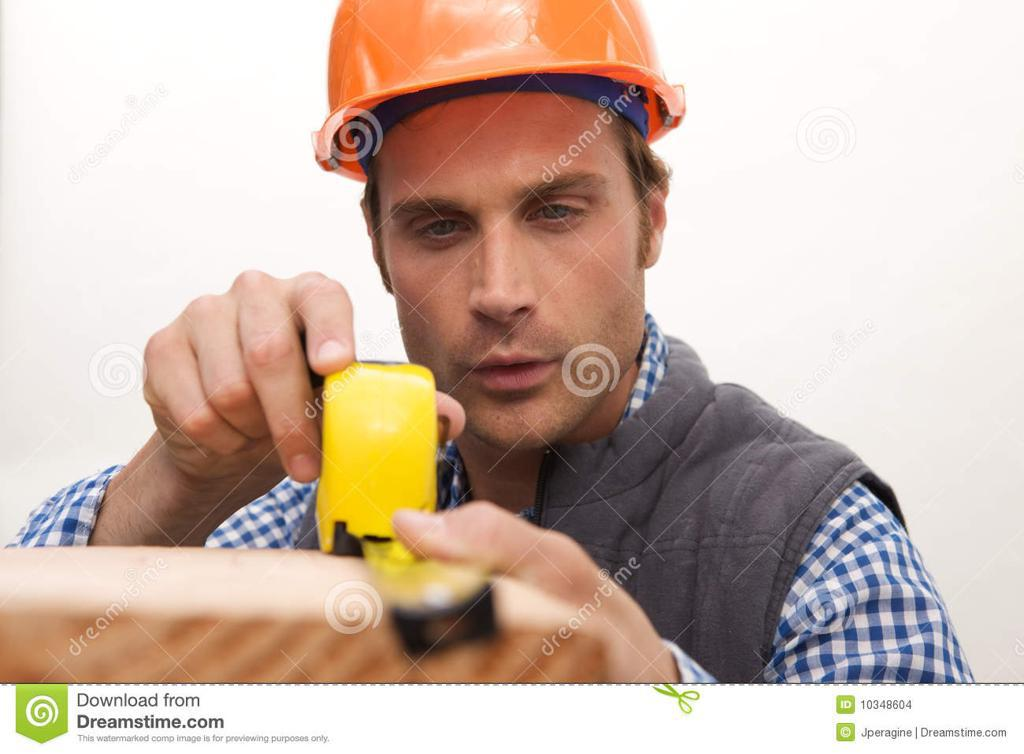face: (391, 85, 621, 425)
